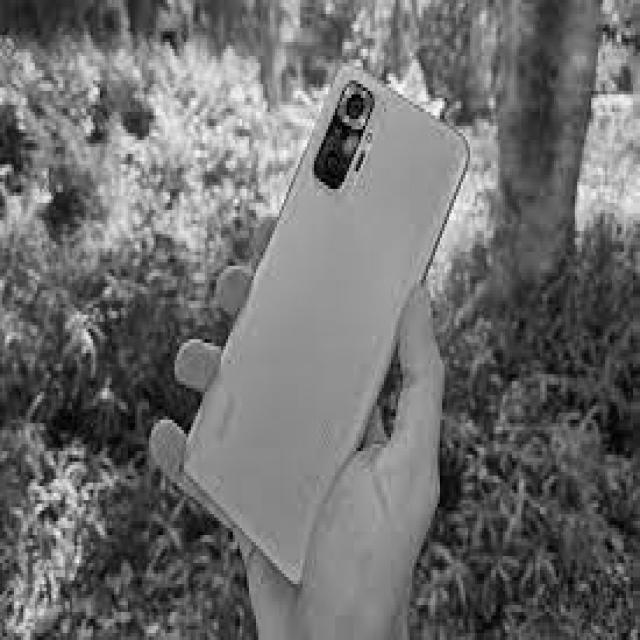No gun_phone: (183, 69, 472, 587)
